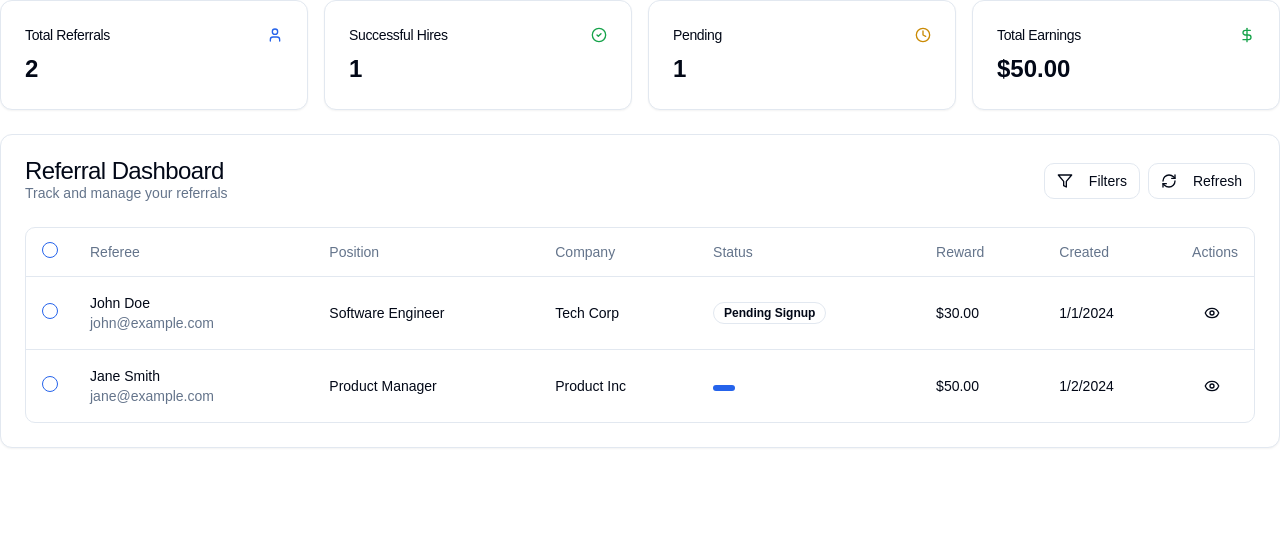
it: ReferralDashboard › handles referral selection
expect the text "John Doe" is shown: met, box x1=90 y1=294 x2=150 y2=310
Note: Select first referral
Click the checkbox next to "John Doe" at (50, 310), box x1=42 y1=302 x2=58 y2=318
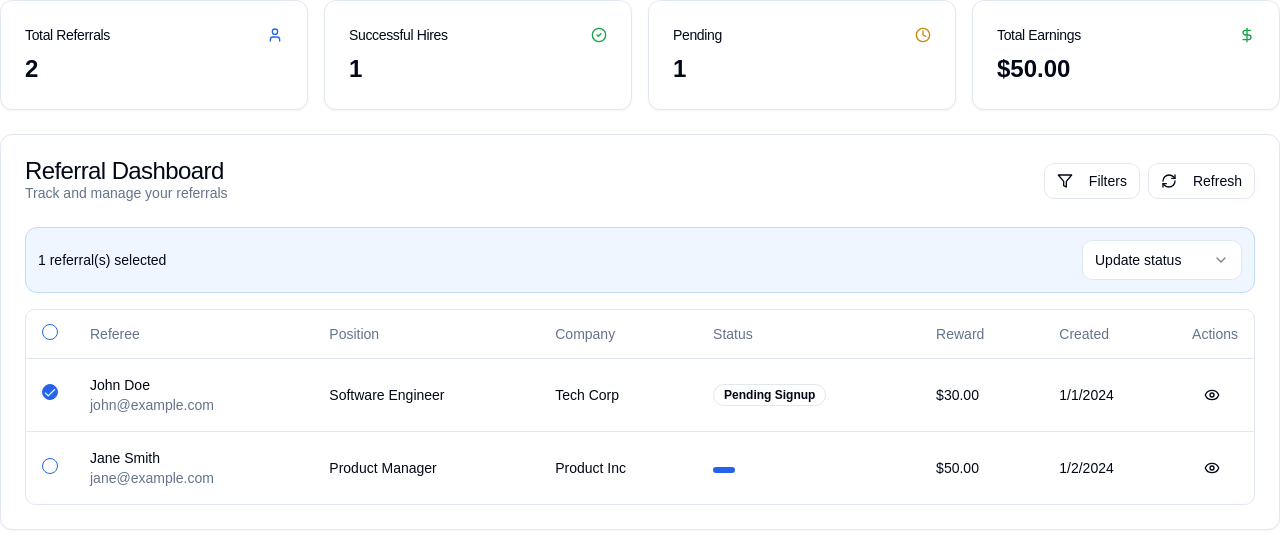
expect the text "1 referral(s) selected" is shown: met, box x1=38 y1=250 x2=166 y2=270
